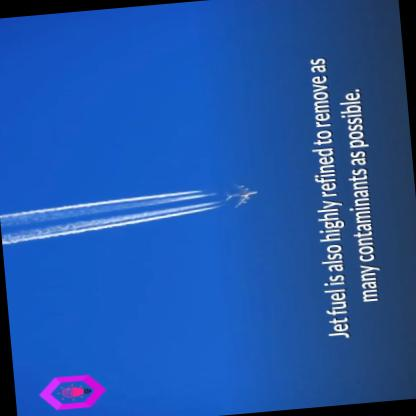plane: (218, 168, 268, 211)
